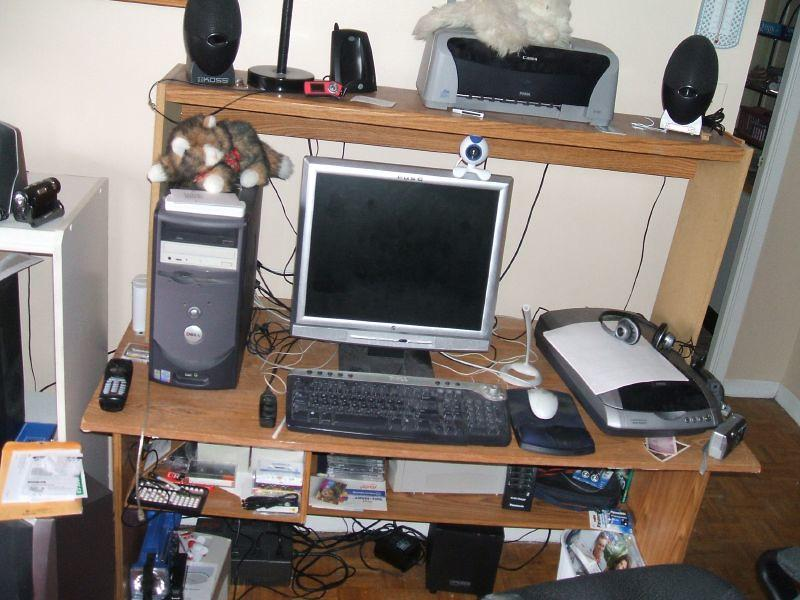computer: (290, 155, 514, 378), (148, 183, 263, 391)
